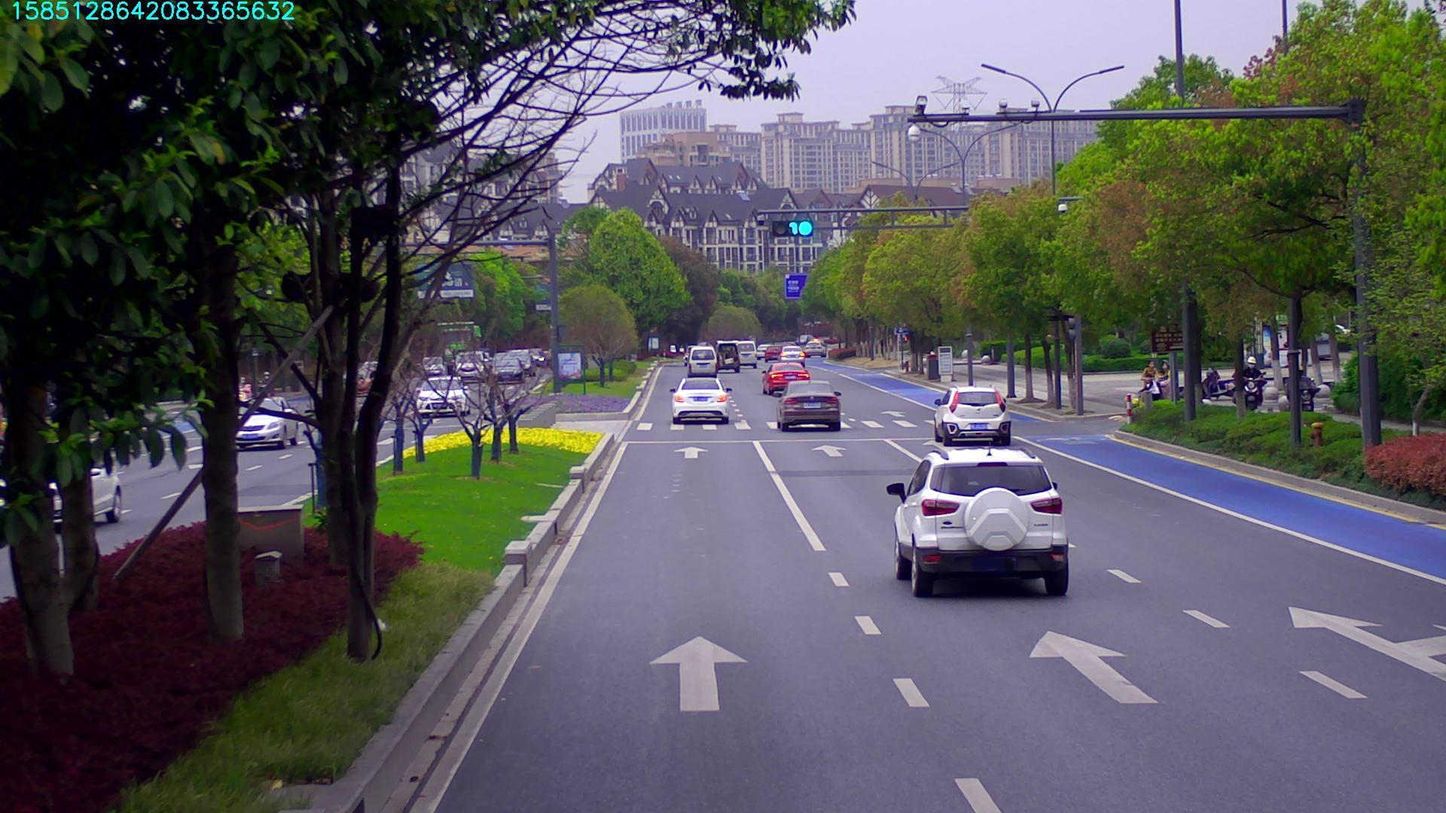green: (771, 219, 813, 236)
